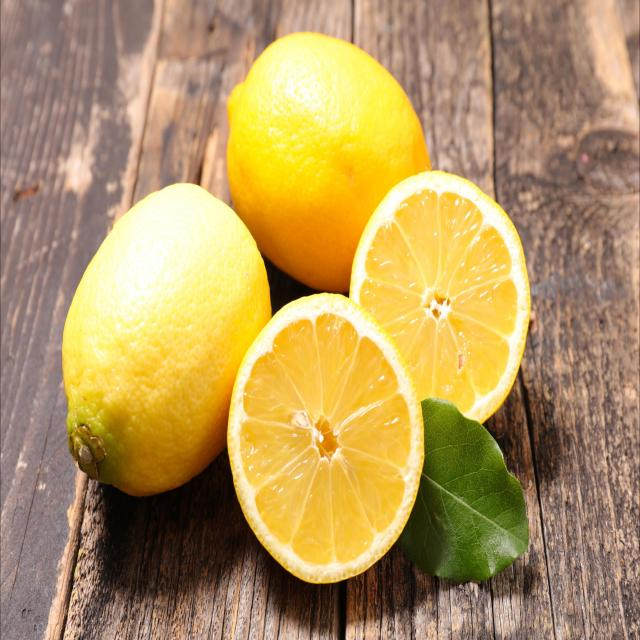lemon: (58, 176, 274, 500), (223, 286, 428, 593), (345, 164, 533, 448)
